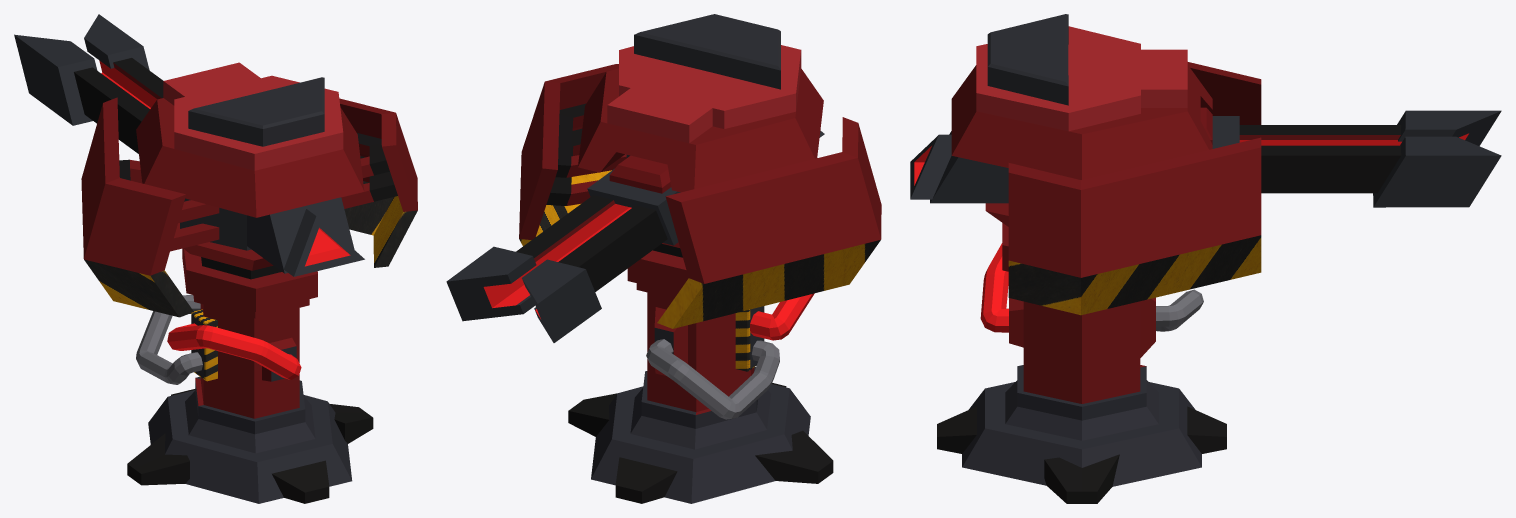
File: Turret.fbx
3 renders of one model, left to right at view 1: azimuth 30°, elevation 25°; view 2: azimuth 150°, elevation 25°; view 3: azimuth 270°, elevation 25°, orthographic. The views are drawn at different scales.
Visible parts, largest first — view 1: 1. ET Head, 2. ET Body, 3.1. Cable 1, 3.2. Cable 2; view 2: 1. ET Head, 2. ET Body, 3.2. Cable 2, 3.1. Cable 1; view 3: 1. ET Head, 2. ET Body, 3.1. Cable 1, 3.2. Cable 2.
Boxes of the visible parts, x1,y1,x2,y2 form: 1. ET Head: [14, 14, 417, 317]; 2. ET Body: [127, 248, 373, 503]; 3.1. Cable 1: [167, 323, 301, 379]; 3.2. Cable 2: [136, 295, 202, 384]; 1. ET Head: [446, 14, 881, 342]; 2. ET Body: [568, 250, 833, 503]; 3.2. Cable 2: [646, 339, 779, 419]; 3.1. Cable 1: [750, 293, 814, 340]; 1. ET Head: [910, 14, 1501, 315]; 2. ET Body: [937, 223, 1226, 503]; 3.1. Cable 1: [980, 243, 1008, 332]; 3.2. Cable 2: [1156, 289, 1203, 331].
Size of the model in its own units: 2.28 by 3.24 by 2.38.
Materials: 1 (1 with a texture image).
